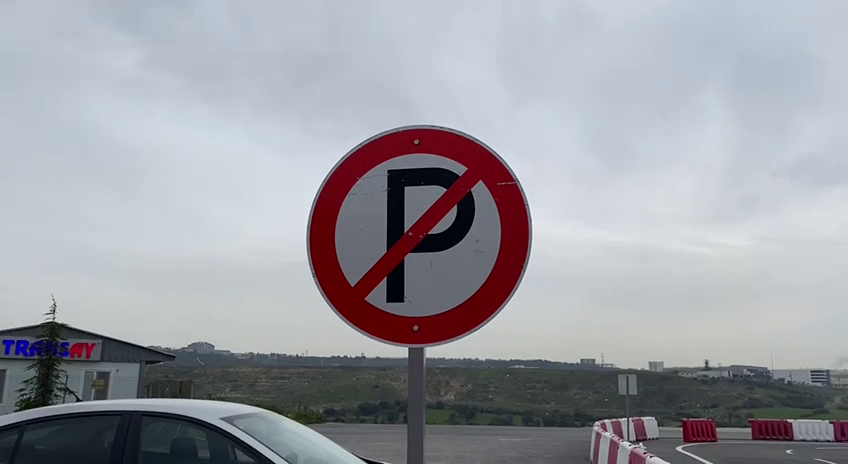noparking: (295, 104, 547, 352)
